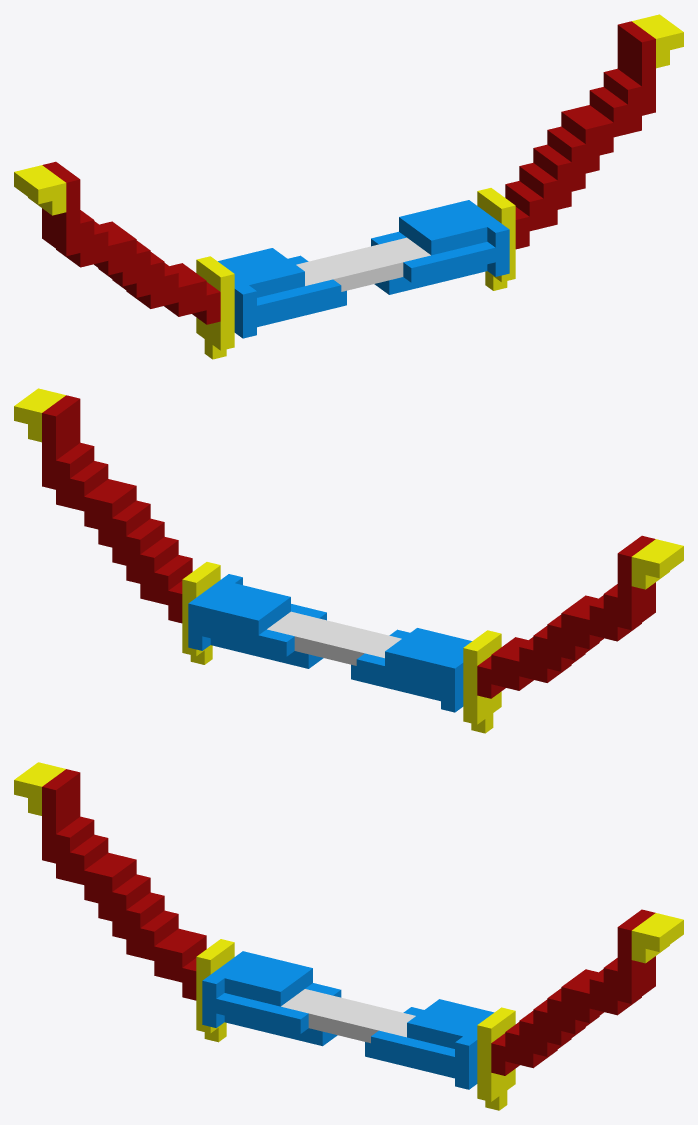
The model's file is bow-1.obj.
3 renders of one model, top to bottom at view 1: azimuth 30°, elevation 25°; view 2: azimuth 150°, elevation 25°; view 3: azimuth 330°, elevation 25°, orthographic.
Size of the model in its own units: 46 by 15 by 5.
Materials: 1 (1 with a texture image).
